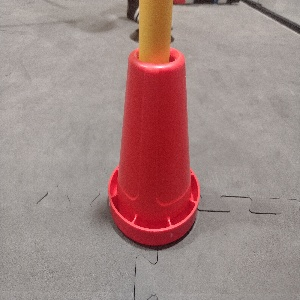Red_1: (105, 45, 201, 248)
